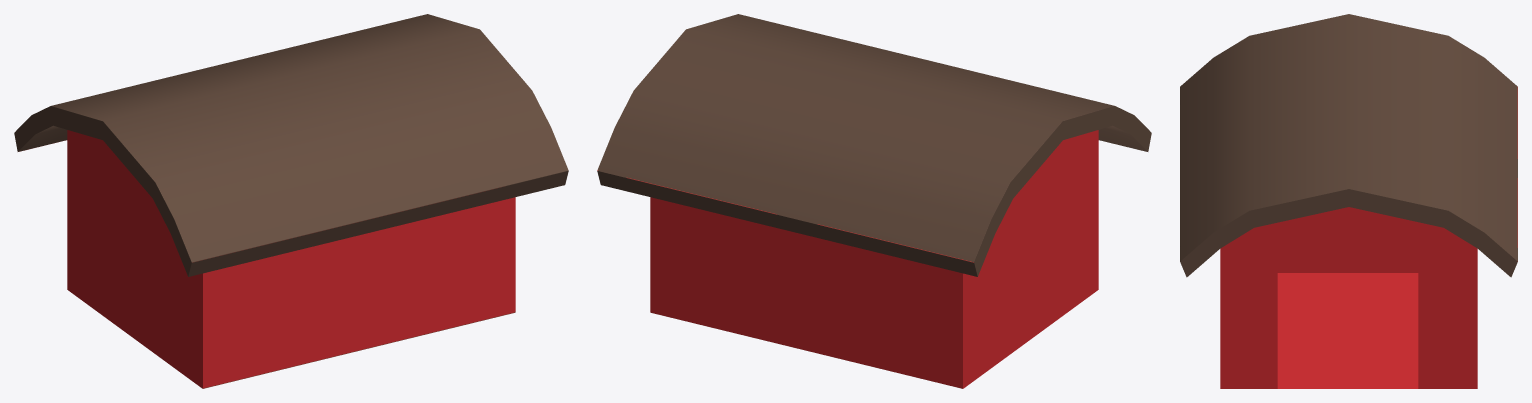
Rendered from barn.glb.
3 views of the same model, side by side, from view 1: azimuth 30°, elevation 25°; view 2: azimuth 150°, elevation 25°; view 3: azimuth 270°, elevation 25° (orthographic). The views are drawn at different scales.
Visible parts, largest first — view 1: Plane; view 2: Plane; view 3: Plane.
Part boxes in pixels (x1,y1,x2,y2): Plane: [14, 14, 568, 388]; Plane: [597, 14, 1151, 388]; Plane: [1180, 14, 1517, 388].
Size of the model in its own units: 2.41 by 1.38 by 1.97.
Materials: 2 (2 with a texture image).
